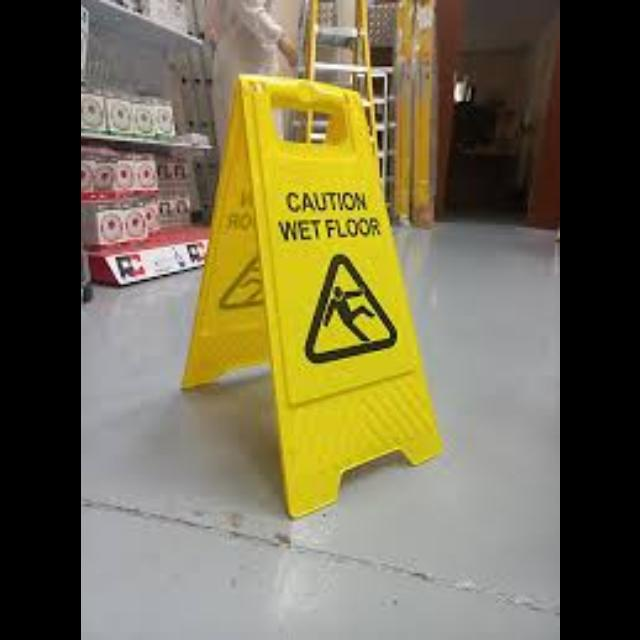tron truot: (184, 79, 438, 516)
